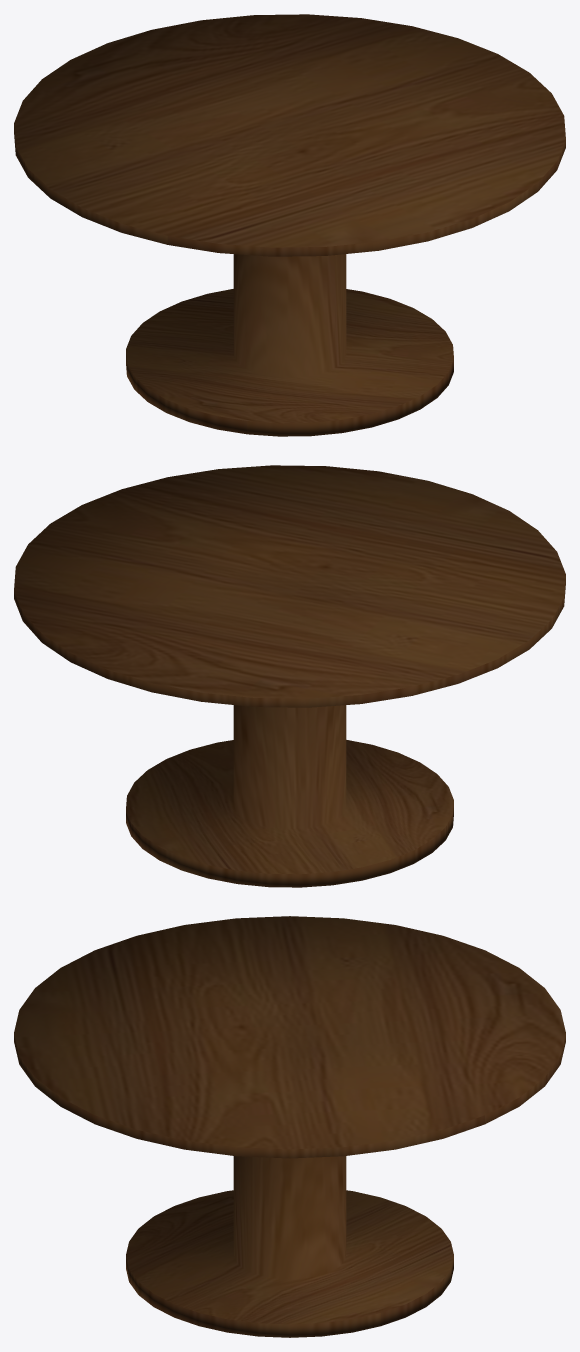
File: TableRonde.fbx
The picture shows the model from 3 angles, top to bottom: view 1: azimuth 30°, elevation 25°; view 2: azimuth 150°, elevation 25°; view 3: azimuth 270°, elevation 25°; orthographic projection.
Visible parts, largest first — view 1: Table ronde; view 2: Table ronde; view 3: Table ronde.
Part boxes in pixels (bbox=[...]): Table ronde: bbox=[14, 14, 565, 436]; Table ronde: bbox=[14, 465, 565, 887]; Table ronde: bbox=[14, 916, 565, 1337].
Size of the model in its own units: 699 by 329 by 699.
